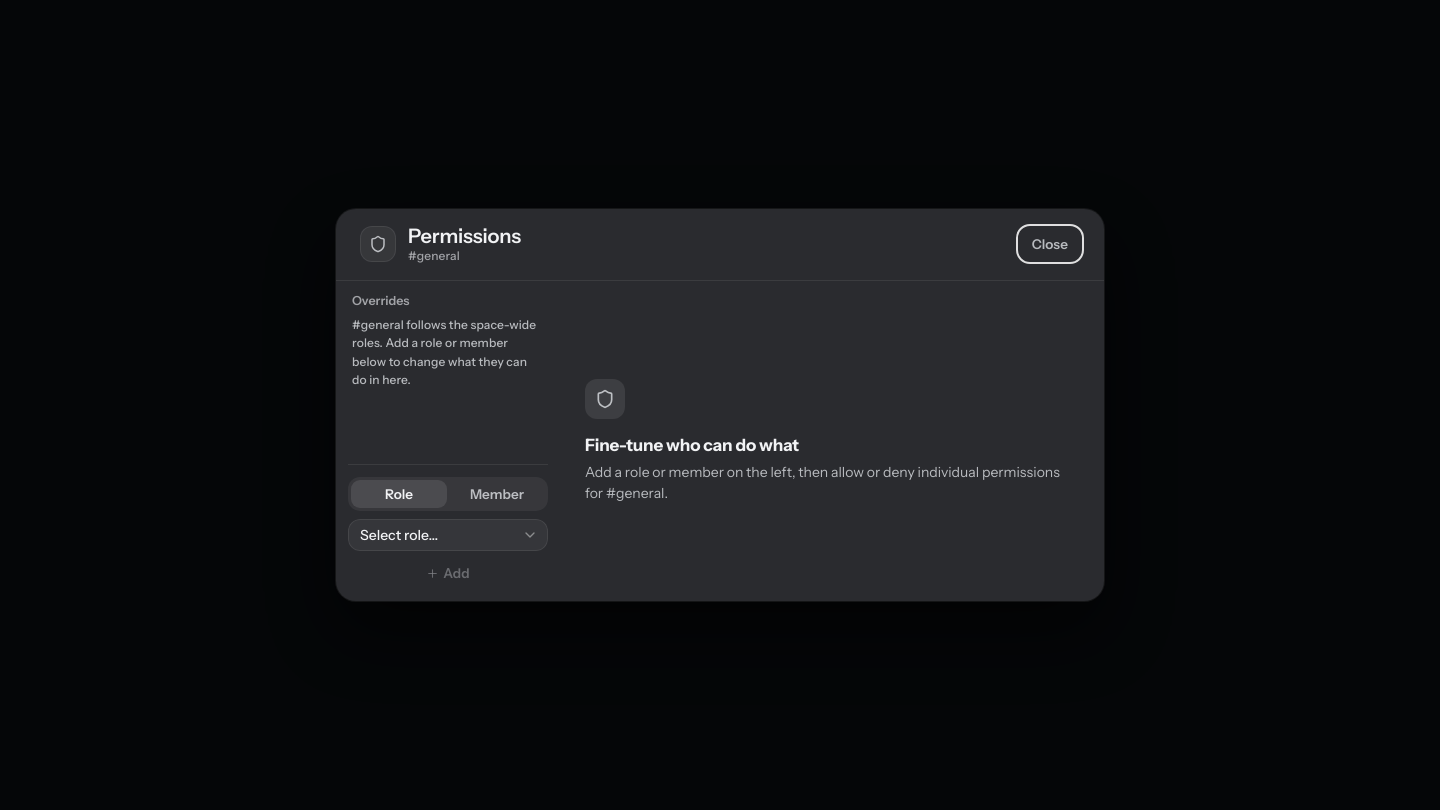
Test: ChannelPermissionsEditor › shows concrete API details when adding a role overwrite fails
Select "Moderators" in the dropdown at (448, 535), box left=348, top=519, right=548, bottom=551
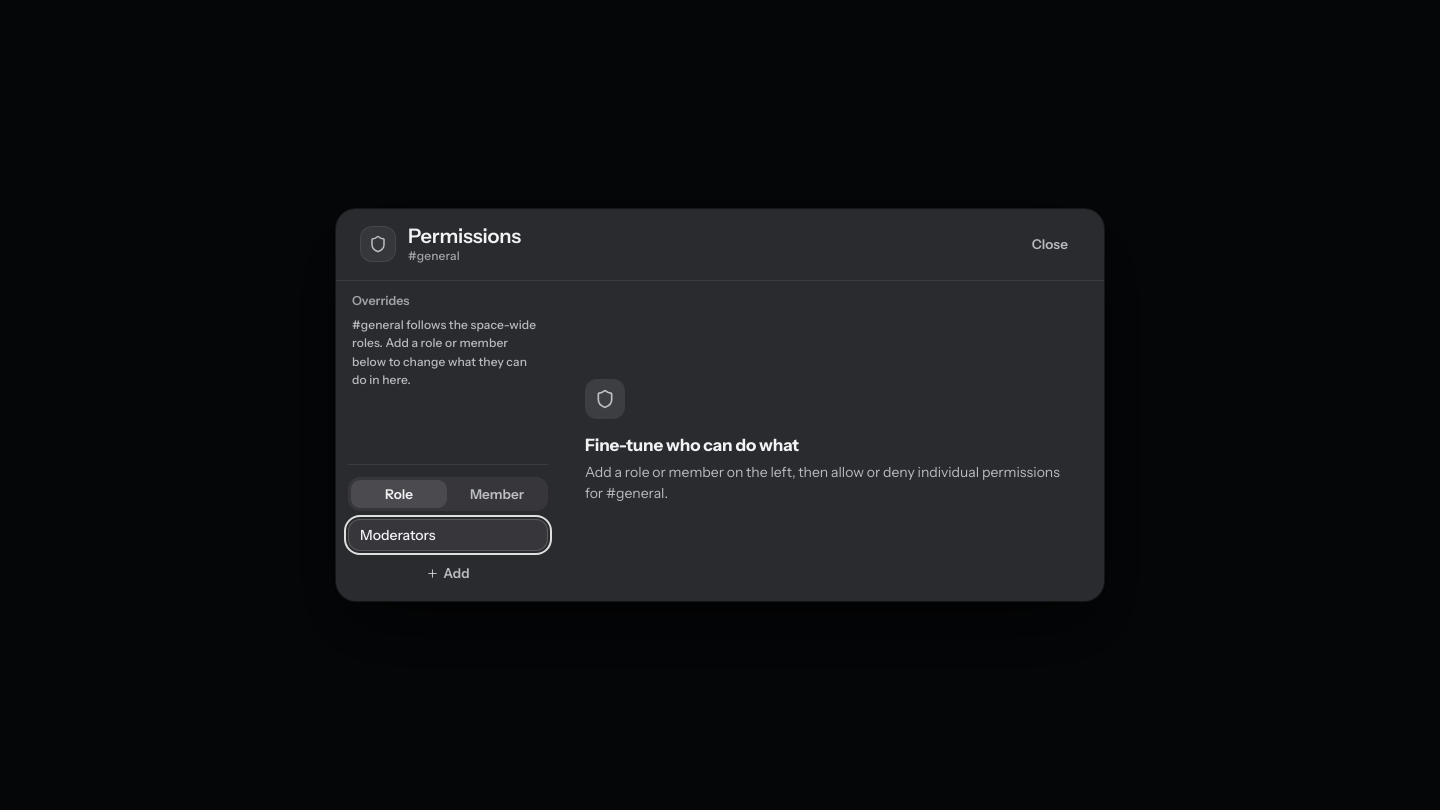
Click the button "Add" at (448, 573), box left=348, top=557, right=548, bottom=589
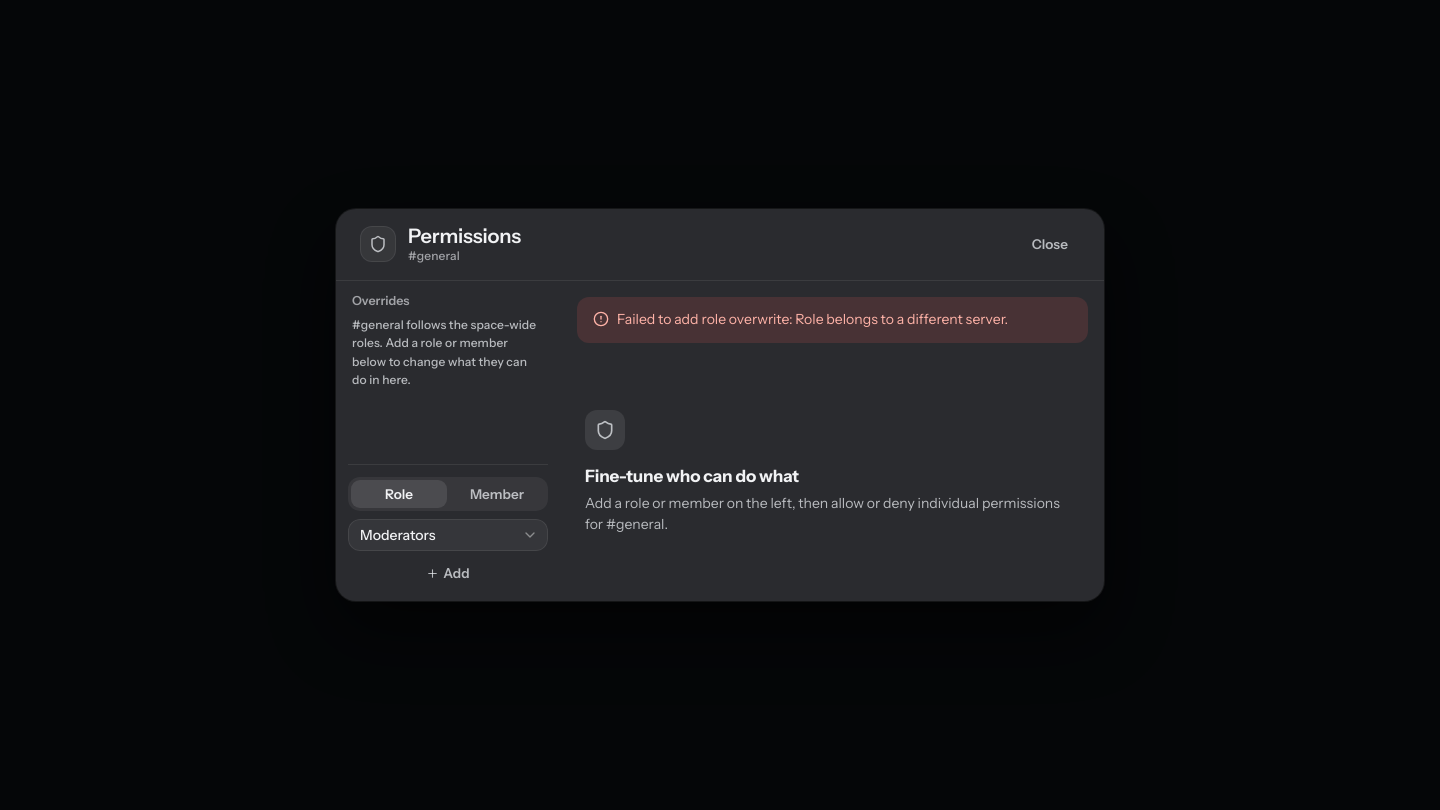
expect the message reads "Failed to add role overwrite: Role belongs to a different server.": met, box left=617, top=310, right=1008, bottom=328
